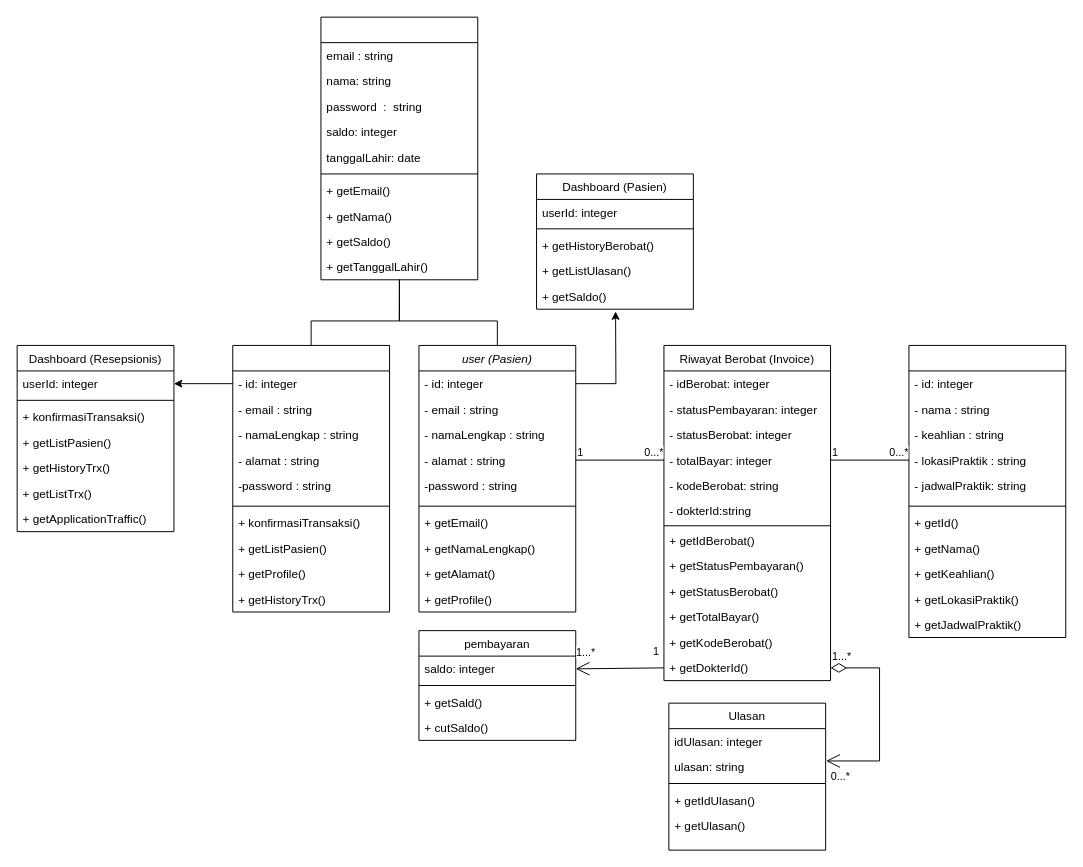
Some shapes in this 1083 by 867 pixel diagram are drawn without their labels. Each missing label, with the box of its shape:
Dokter: (908, 344, 1066, 637)
Profile: (320, 16, 478, 280)
user (Resepsionis): (232, 344, 390, 612)
